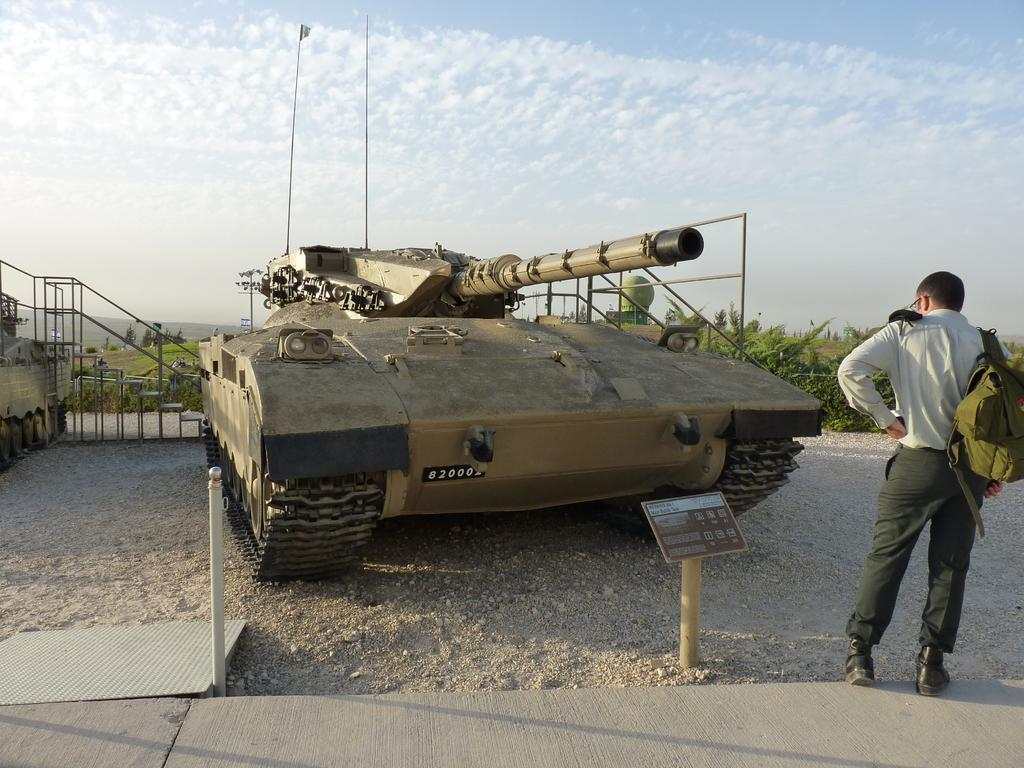Tank: (193, 18, 825, 584)
